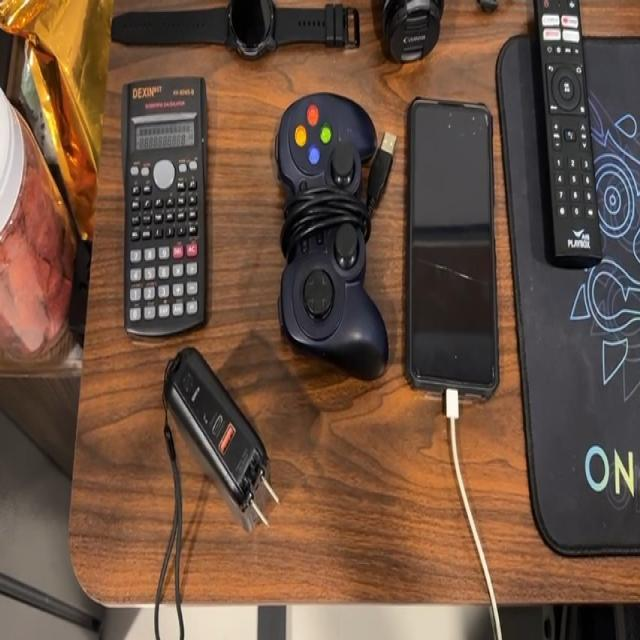calculator: (115, 56, 227, 346)
earphone: (376, 4, 492, 85)
joy stick: (265, 96, 397, 372)
remote: (515, 0, 629, 288)
smart phone: (402, 89, 508, 404)
watch: (101, 0, 375, 71)
